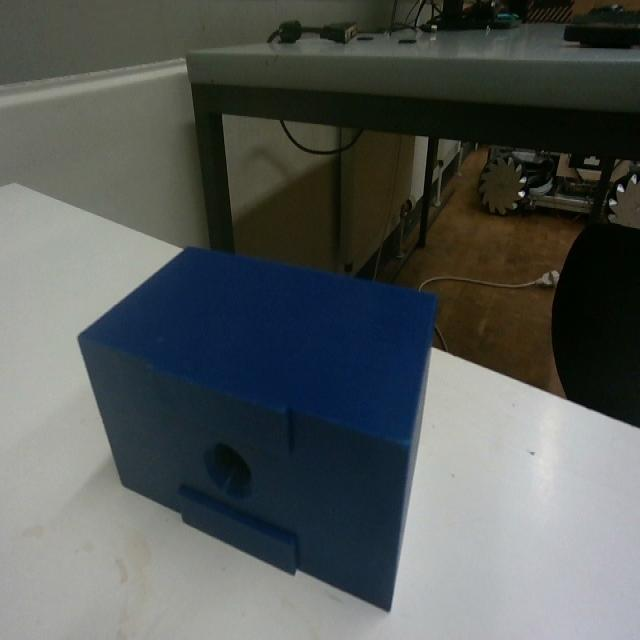Blue Cuboid: (76, 240, 439, 612)
